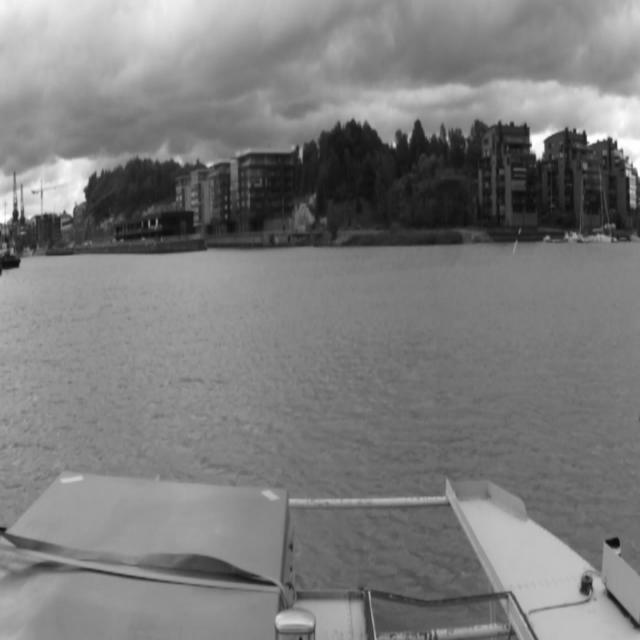buoy: (512, 228, 522, 256)
ship: (592, 166, 612, 243), (543, 234, 551, 243)
